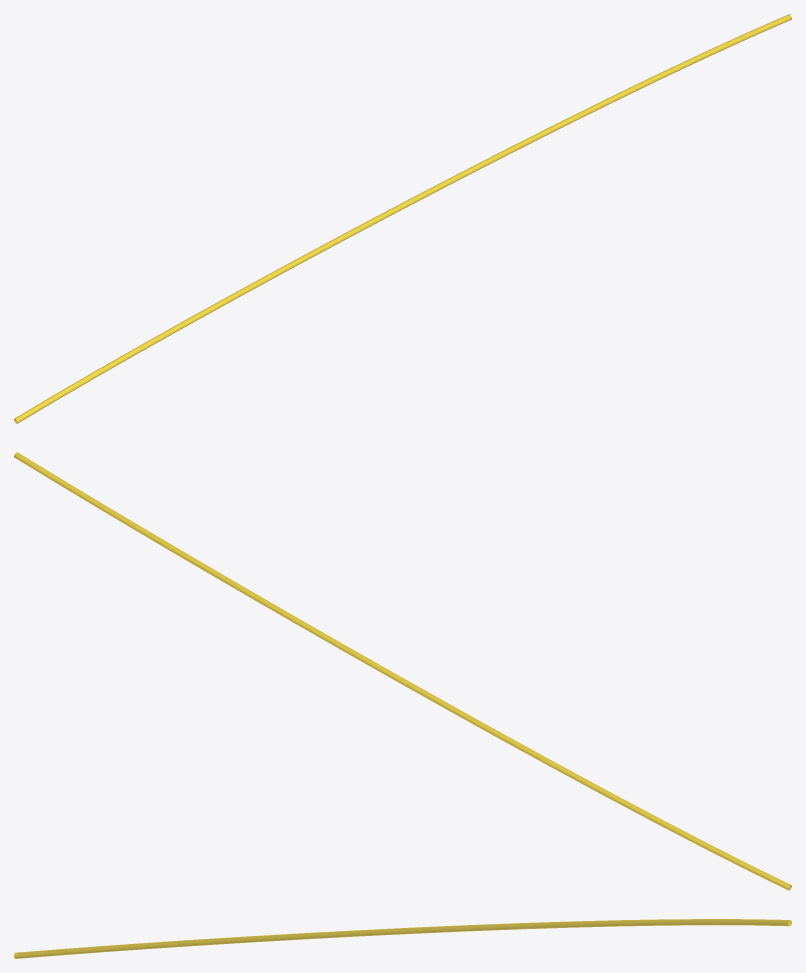
Rendered from Event_402970704_track_38.fbx.
3 views of the same model, one above another, from view 1: azimuth 30°, elevation 25°; view 2: azimuth 150°, elevation 25°; view 3: azimuth 330°, elevation 25° (orthographic). The views are drawn at different scales.
Parts seen in each view (by area): view 1: Model; view 2: Model; view 3: Model.
Part boxes in pixels (bbox=[...]): Model: bbox=[14, 14, 791, 423]; Model: bbox=[14, 452, 791, 890]; Model: bbox=[14, 919, 791, 958].
Size of the model in its own units: 5.81 by 1.68 by 0.2467.
